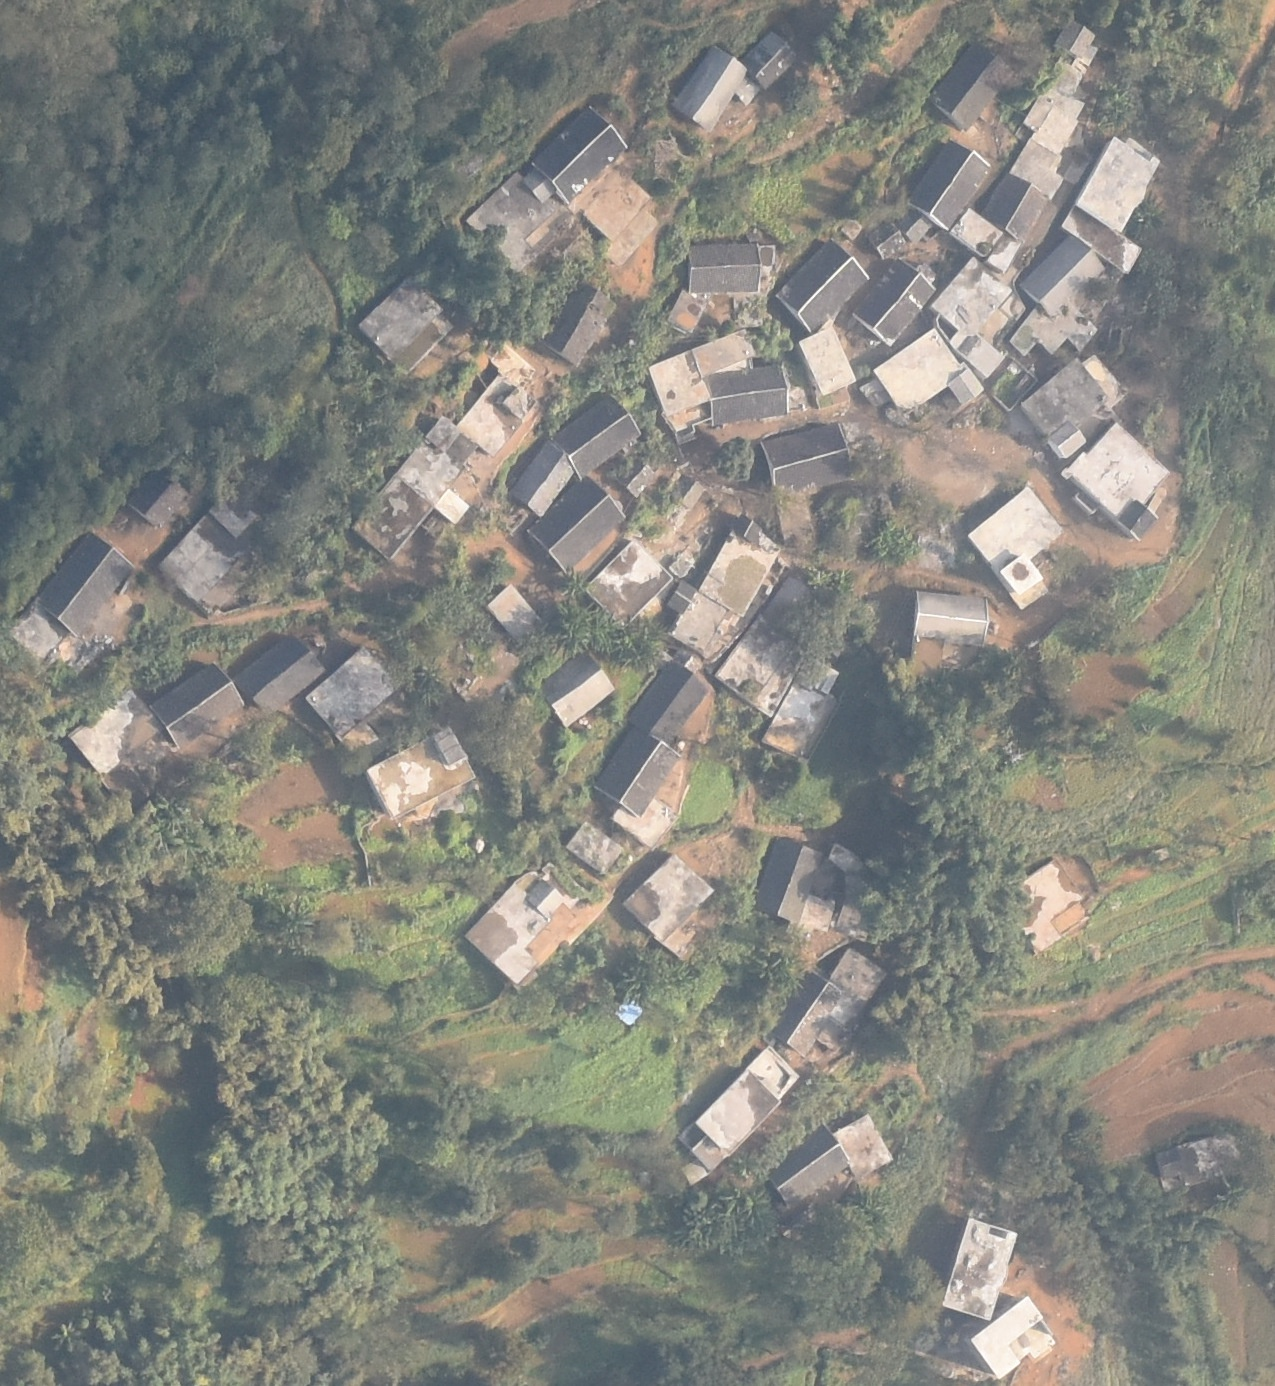building: (352, 413, 481, 562), (467, 871, 615, 982), (677, 1047, 803, 1171), (670, 513, 781, 653), (717, 576, 827, 717), (1061, 137, 1162, 275), (1067, 422, 1171, 543), (159, 503, 272, 611), (965, 485, 1065, 607), (788, 947, 888, 1066), (466, 172, 574, 269), (367, 724, 479, 817), (35, 533, 134, 635), (874, 329, 985, 416), (529, 105, 626, 204), (527, 477, 626, 573), (649, 329, 758, 416), (359, 275, 454, 374), (773, 239, 873, 333), (454, 347, 540, 454), (1020, 357, 1110, 457), (146, 661, 247, 750), (306, 645, 399, 741), (762, 654, 841, 763), (66, 688, 165, 774), (1006, 857, 1093, 954), (622, 854, 714, 944), (232, 634, 328, 718), (942, 1217, 1019, 1321), (908, 135, 991, 231), (549, 395, 641, 479), (596, 728, 682, 816), (929, 43, 1015, 131), (1020, 234, 1107, 319), (585, 541, 673, 625), (852, 260, 936, 345), (972, 1296, 1055, 1380), (770, 1125, 851, 1208), (932, 256, 1013, 334), (759, 423, 851, 490), (672, 46, 747, 128), (752, 837, 822, 924), (539, 651, 616, 726), (547, 282, 616, 365), (581, 168, 655, 241), (707, 364, 790, 425), (912, 588, 991, 648), (1012, 304, 1102, 356), (982, 171, 1047, 239), (1023, 86, 1087, 150), (833, 1114, 896, 1179), (487, 584, 552, 647), (688, 242, 762, 295), (1008, 137, 1067, 202), (125, 467, 187, 527), (799, 330, 856, 393), (740, 30, 798, 90), (567, 822, 624, 873), (950, 208, 1003, 257), (667, 289, 708, 334), (1054, 19, 1095, 60)
